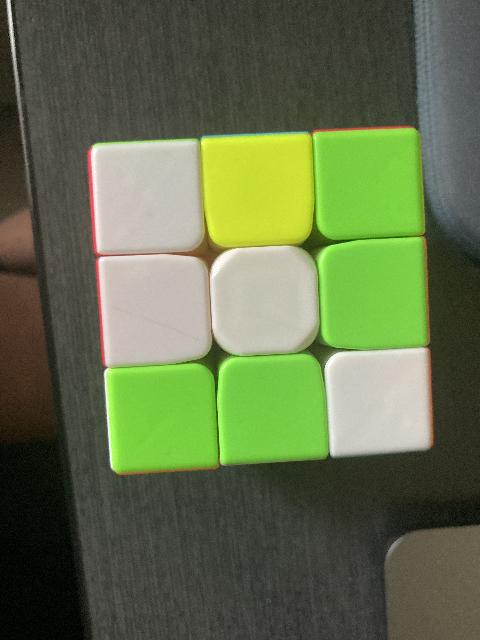Green: (316, 134, 424, 234), (108, 370, 216, 466), (329, 246, 427, 344), (224, 366, 322, 456)
White: (212, 254, 322, 352), (95, 148, 199, 250), (106, 258, 206, 359), (328, 357, 428, 449)
Yellow: (207, 134, 309, 240)
